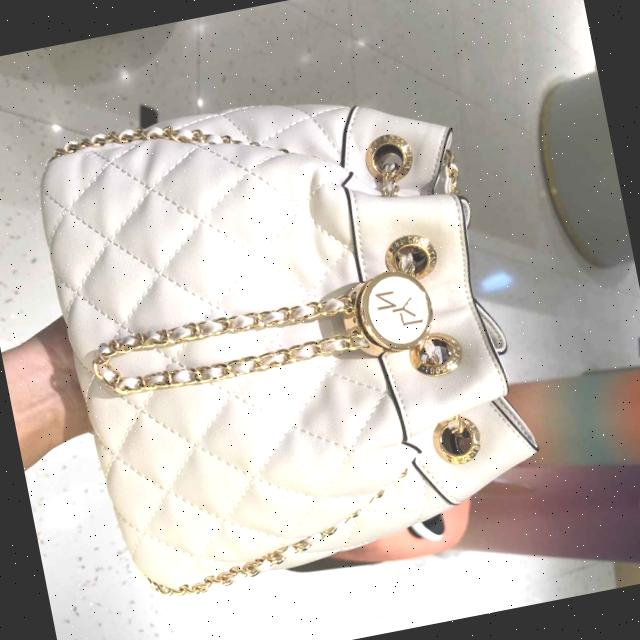Handbag: (24, 59, 558, 612)
